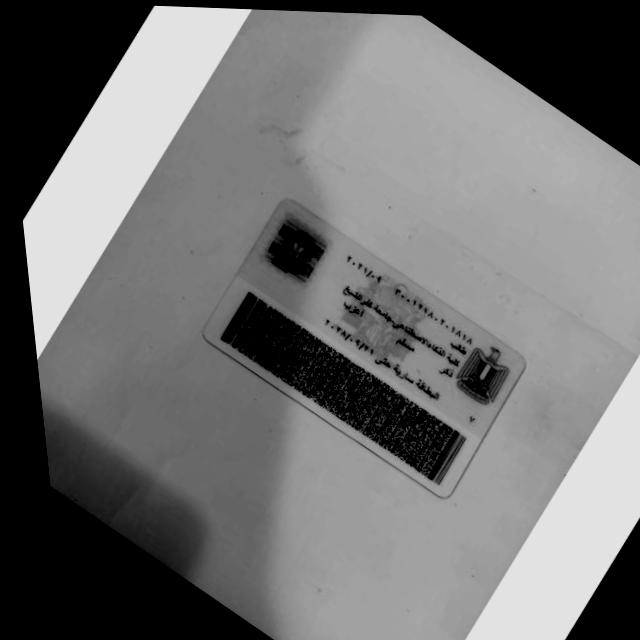id_card: (204, 200, 524, 495)
